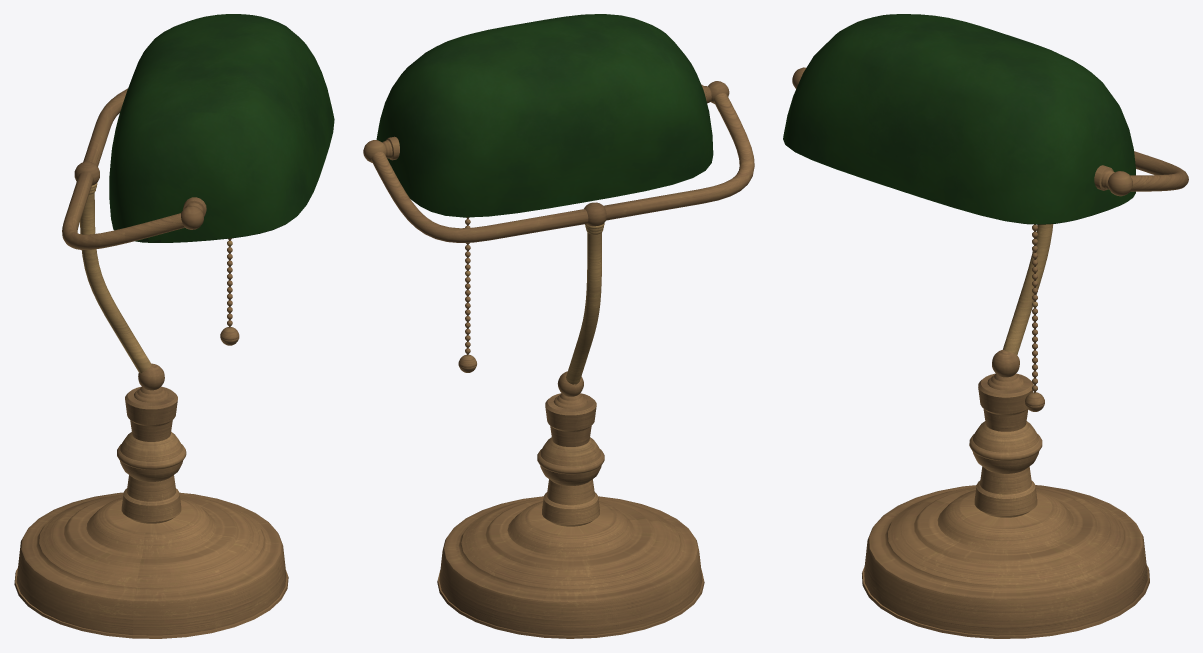
File: Lamp.fbx
The picture shows the model from 3 angles, left to right: view 1: azimuth 30°, elevation 25°; view 2: azimuth 150°, elevation 25°; view 3: azimuth 270°, elevation 25°; orthographic projection. The views are drawn at different scales.
Parts seen in each view (by area): view 1: Lamp; view 2: Lamp; view 3: Lamp.
Boxes of the visible parts, bbox=[...] form: Lamp: bbox=[14, 14, 334, 638]; Lamp: bbox=[363, 14, 754, 638]; Lamp: bbox=[783, 14, 1188, 638].
Bounding box in the file's own units: 4.13 × 6.68 × 4.37.
